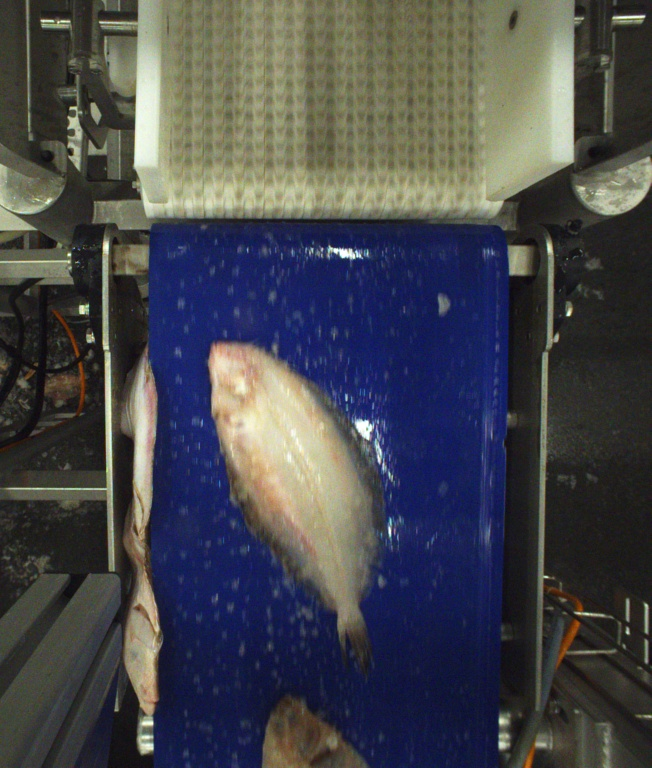WIT: (202, 339, 383, 663)
